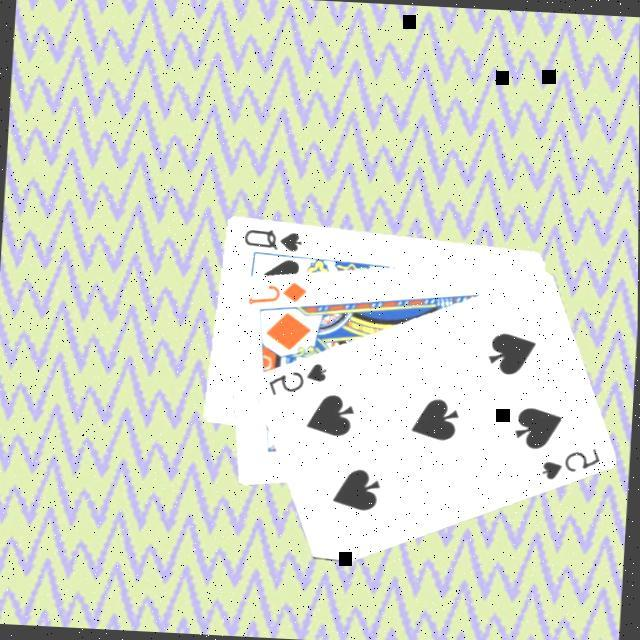5S: (537, 440, 603, 484), (264, 356, 329, 398)
JD: (244, 274, 310, 308)
QS: (239, 222, 305, 252)
